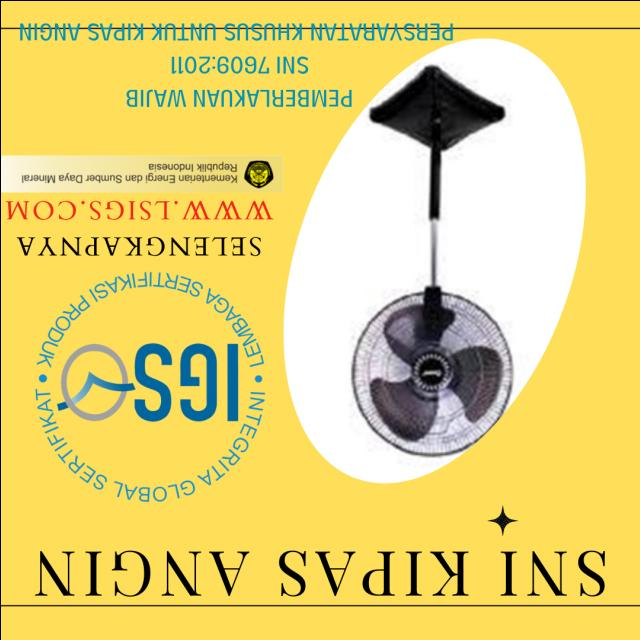fan: (344, 58, 510, 458)
